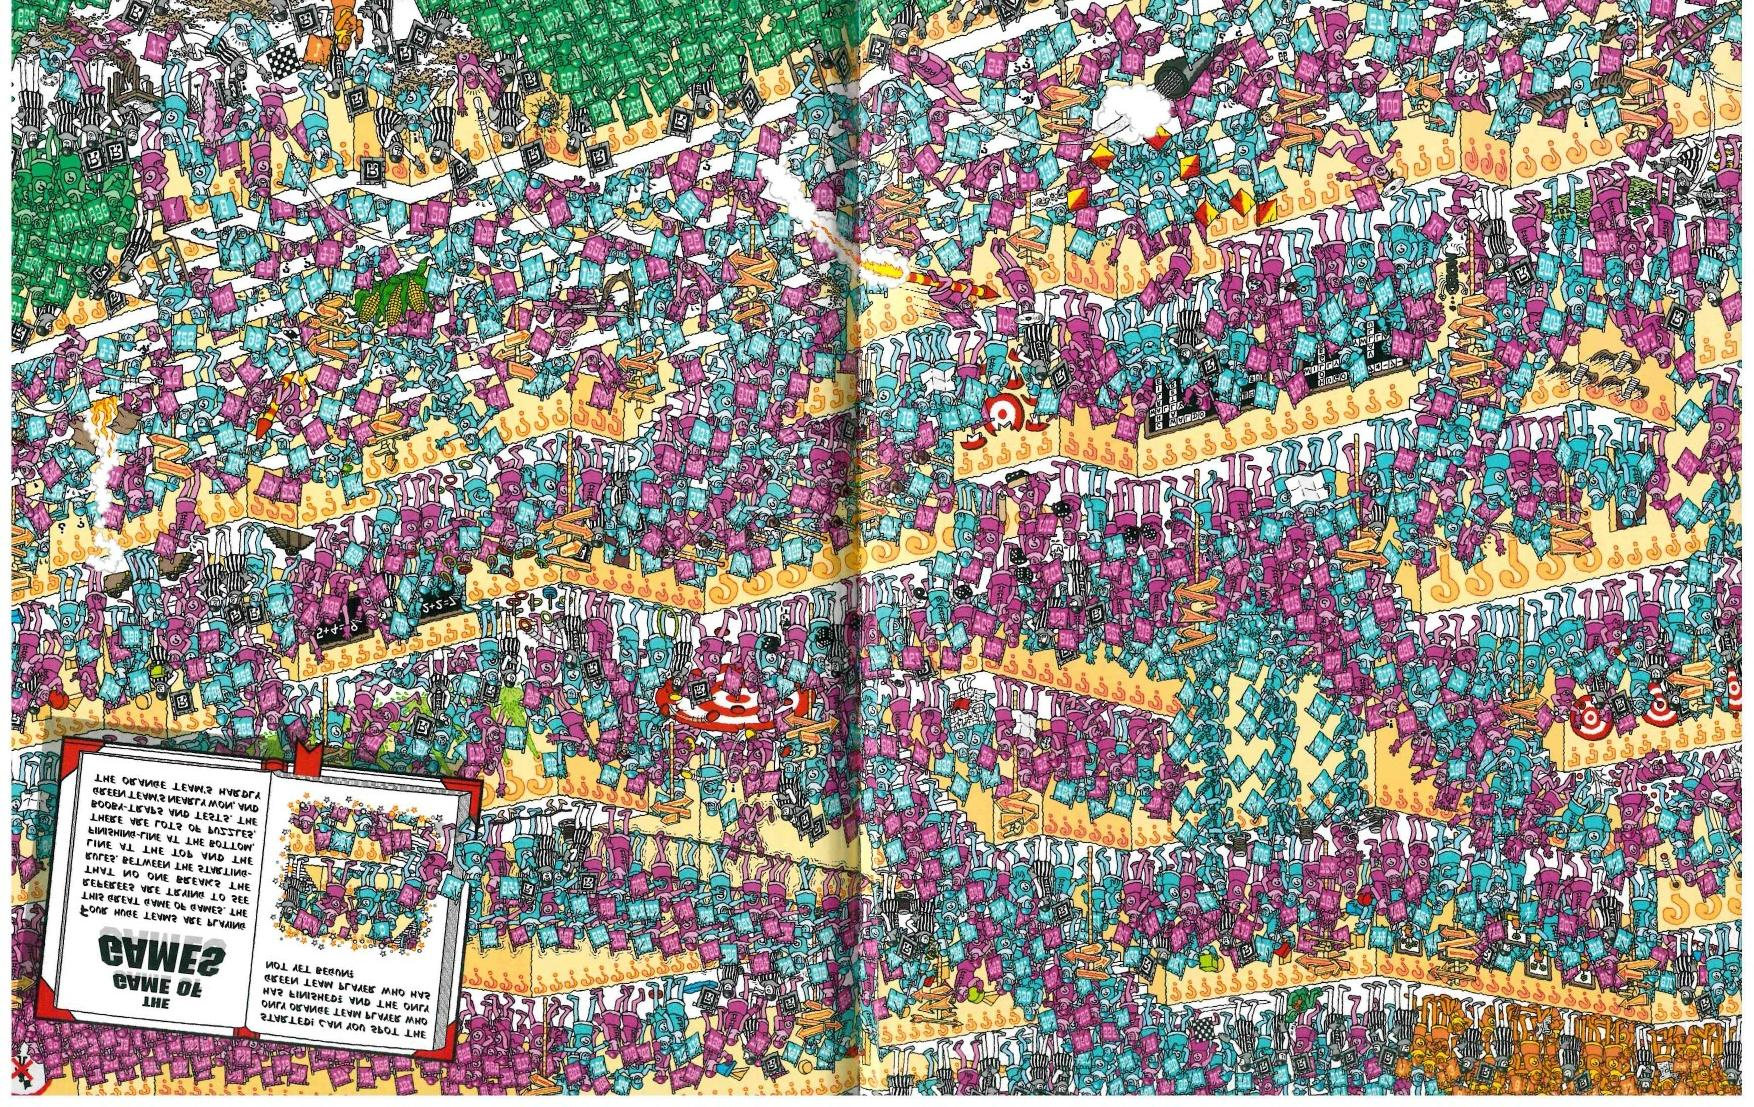waldos: (613, 733, 632, 764)
